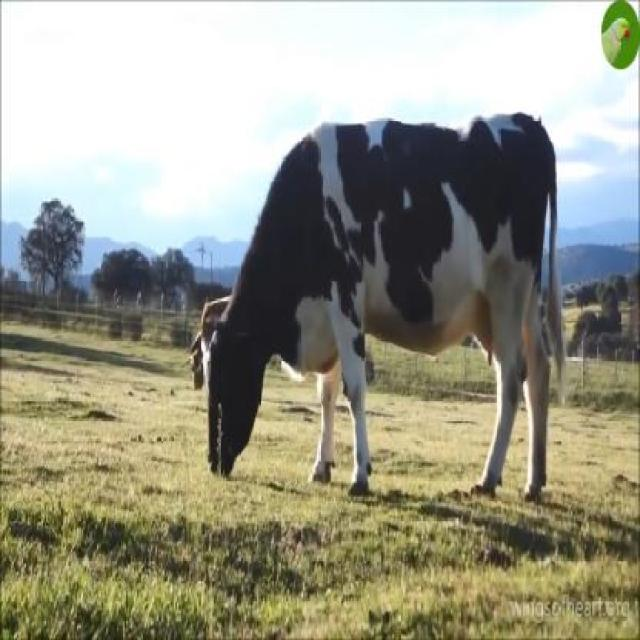Cow: (200, 112, 562, 483)
